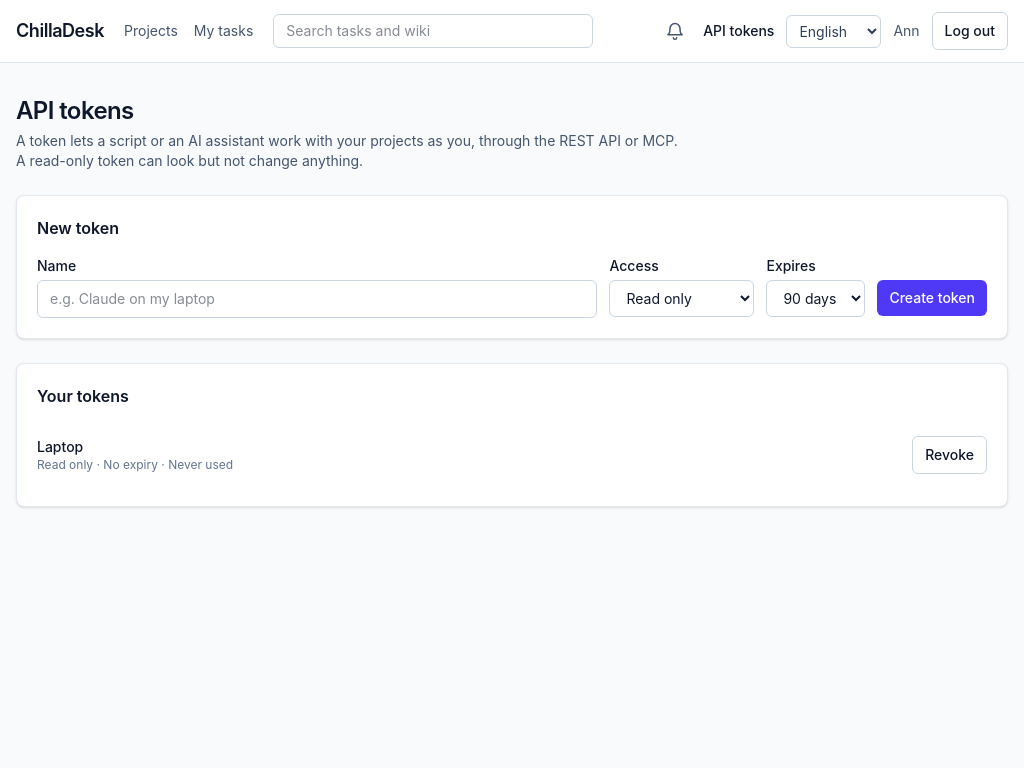
API tokens page › revokes a token, hiding its secret if it was still on screen
This screenshot has width=1024, height=768.
Step 1. Type "Fresh" into the field labelled "Name" → x=317, y=299, box [37,280,597,318]
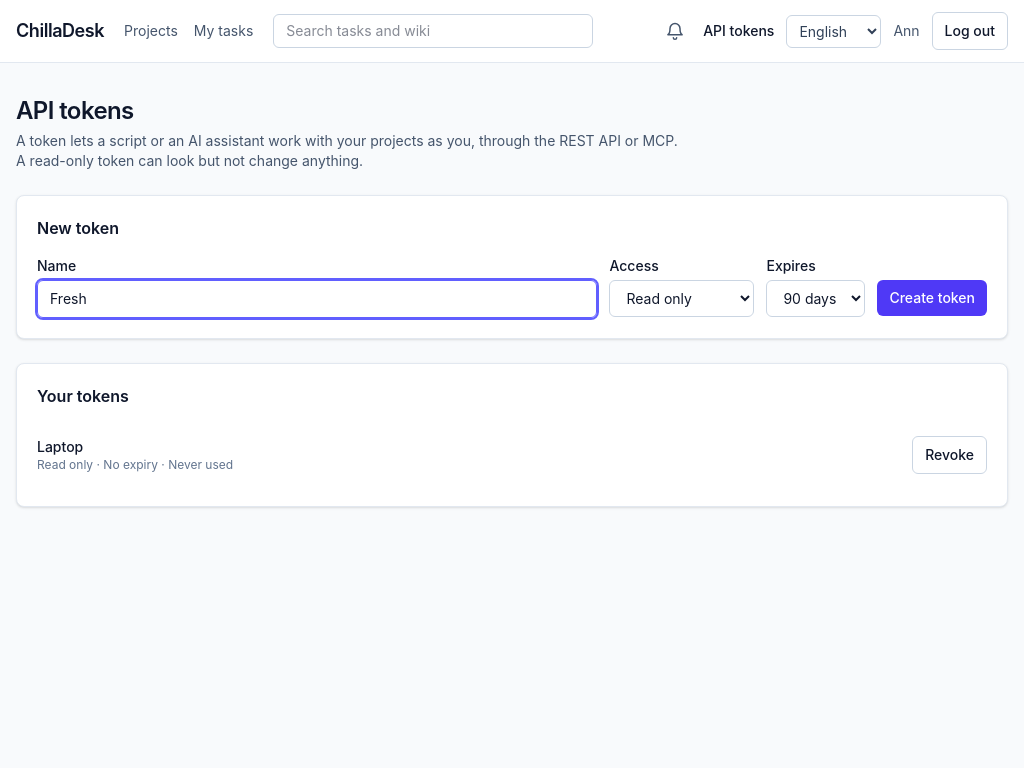
Step 2. Click the button "Create token" → x=932, y=298, box [877,280,987,316]
(page scrolled)
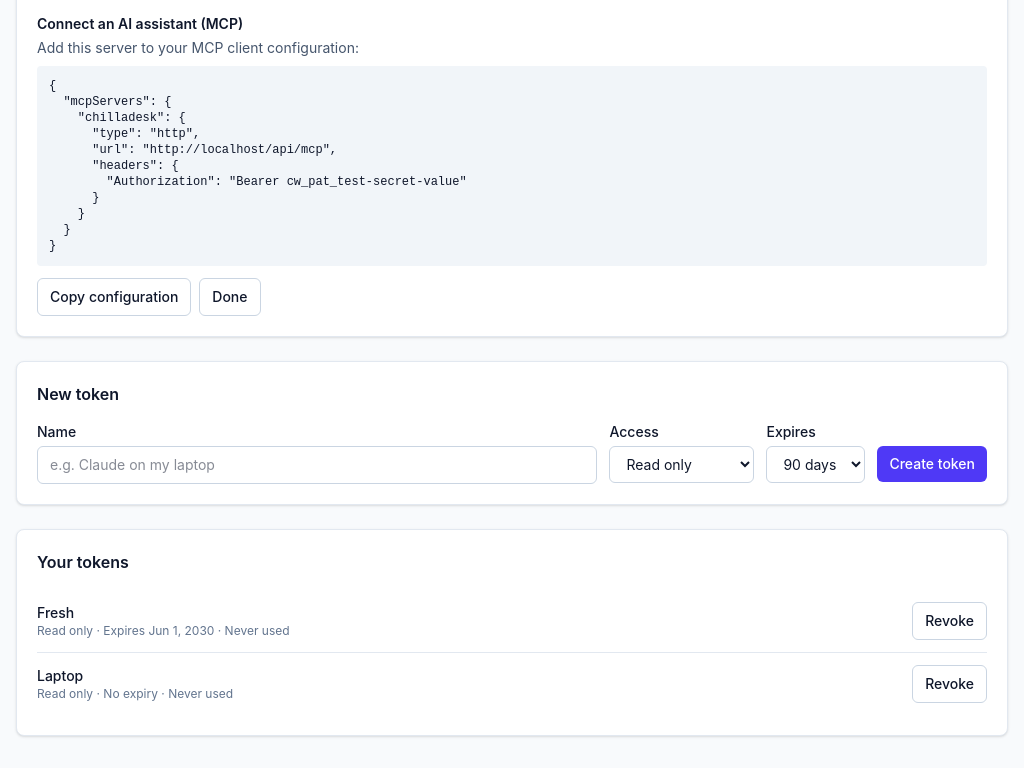
Step 3. Click the button with aria-label "Revoke Fresh" → x=950, y=621, box [912,602,987,640]
(page scrolled)
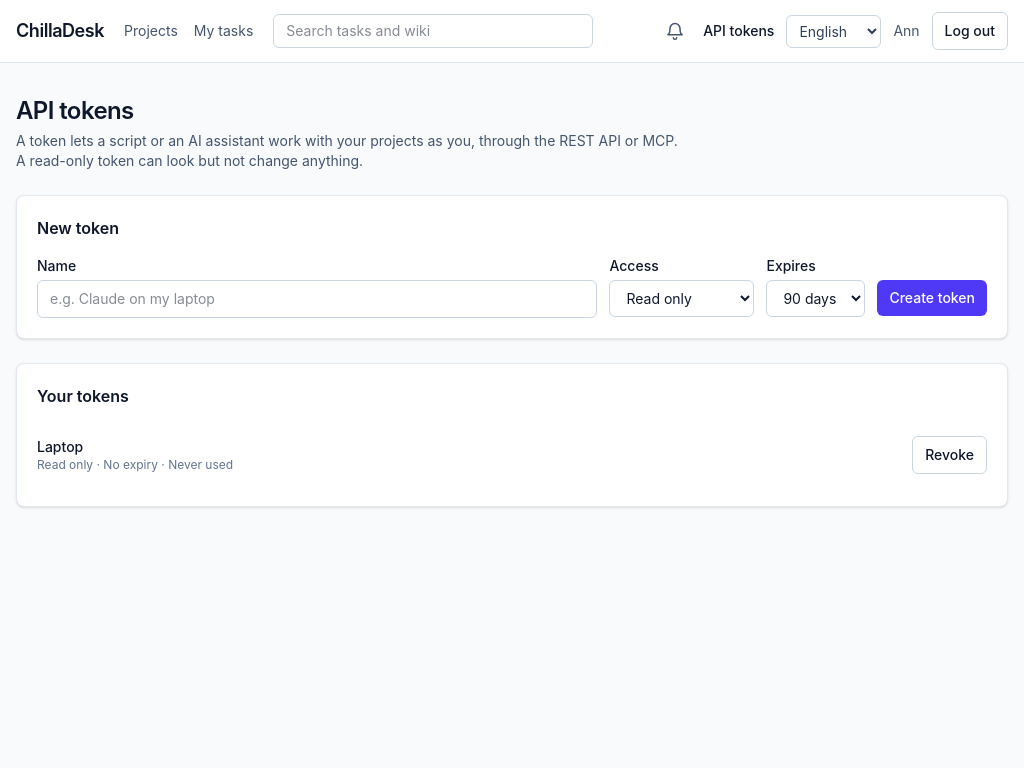
Expected: the text "cw_pat_test-secret-value" is gone
Step 4. Click the button with aria-label "Revoke Laptop" → x=950, y=455, box [912,436,987,474]
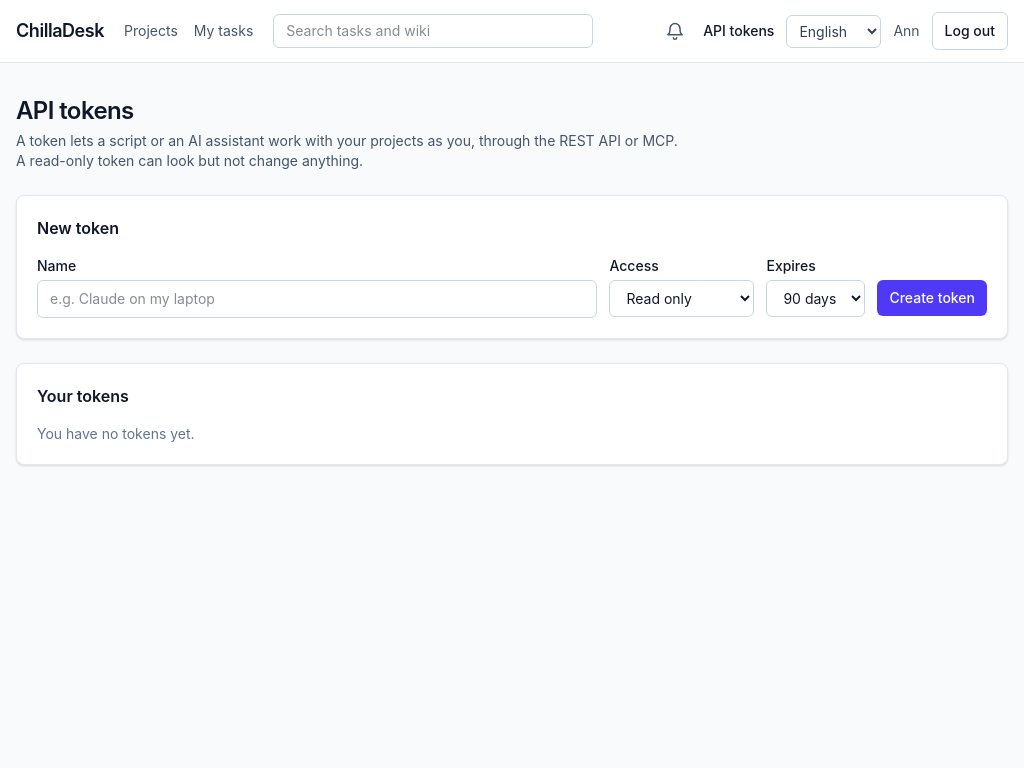
Expected: the text "You have no tokens yet." is shown, [37,425,195,442]
Expected: the list item "Laptop Read only · No expiry · Never used Revoke" is gone
